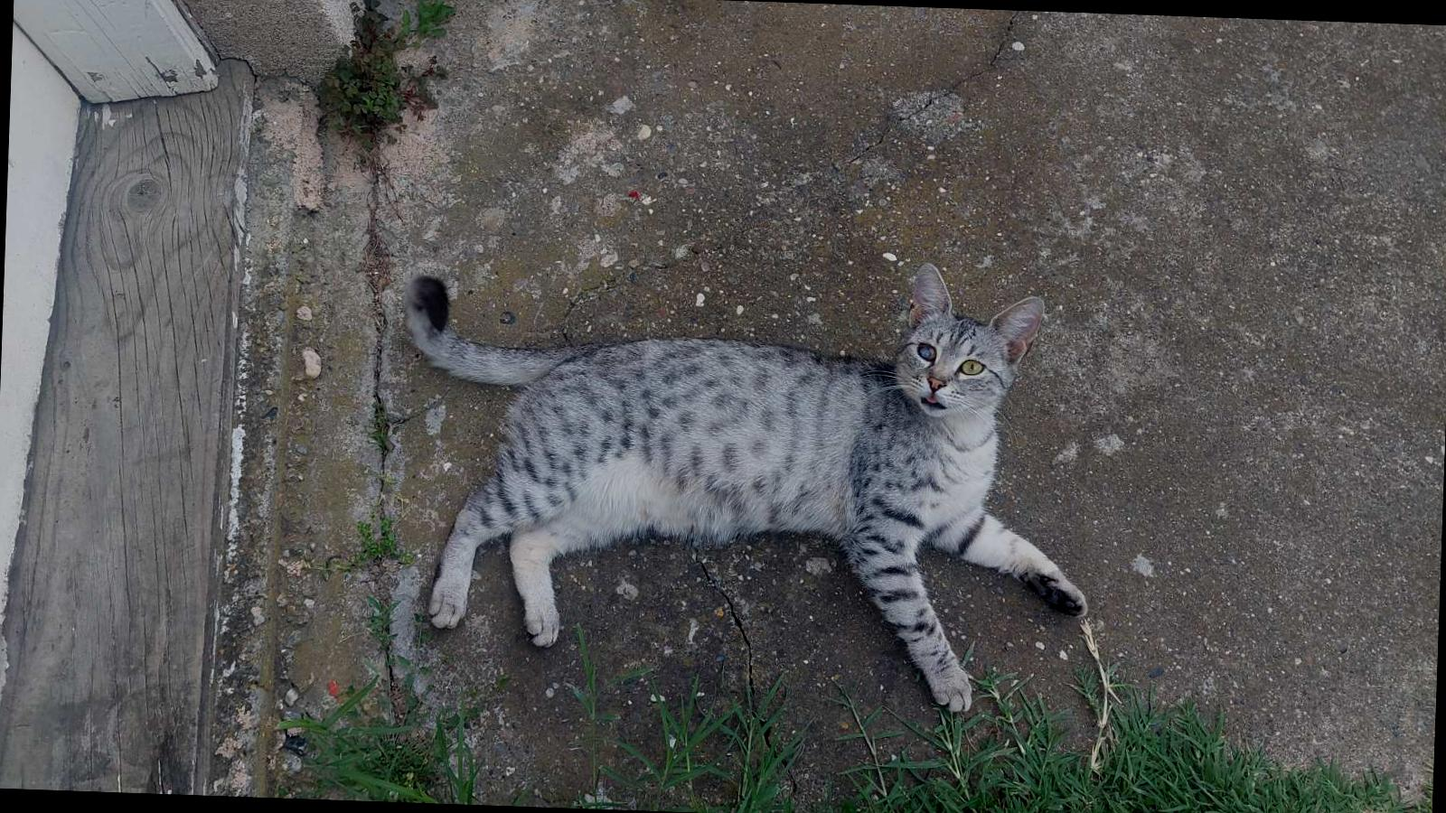macka: (389, 239, 1103, 726)
